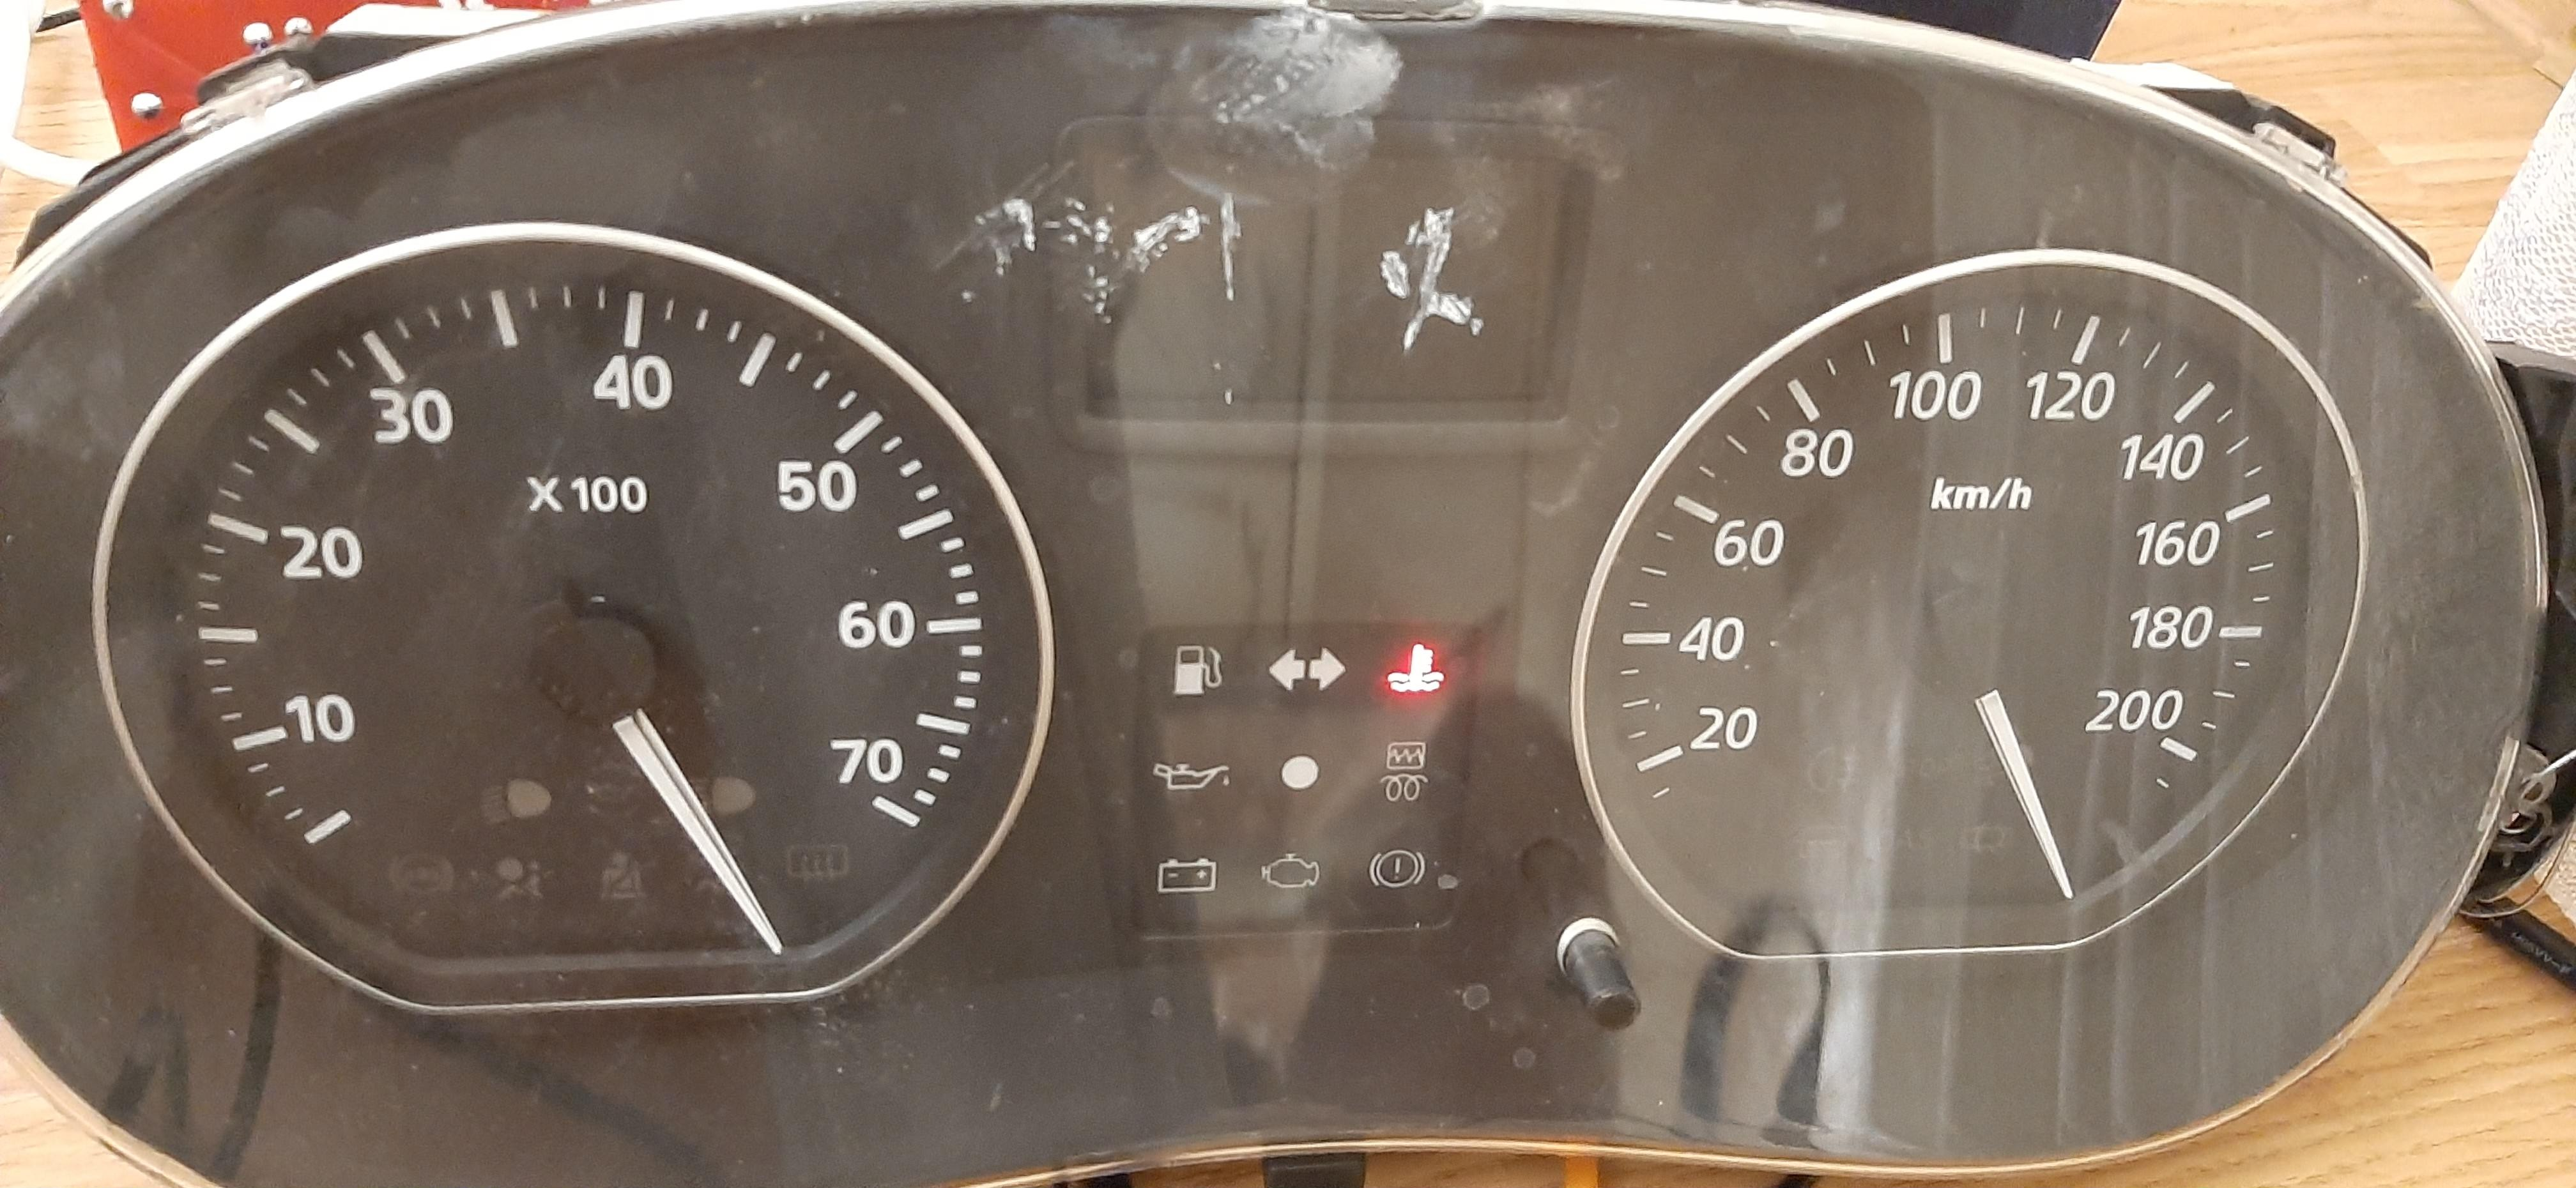Engine Overheating9: (1383, 642, 1452, 695)
